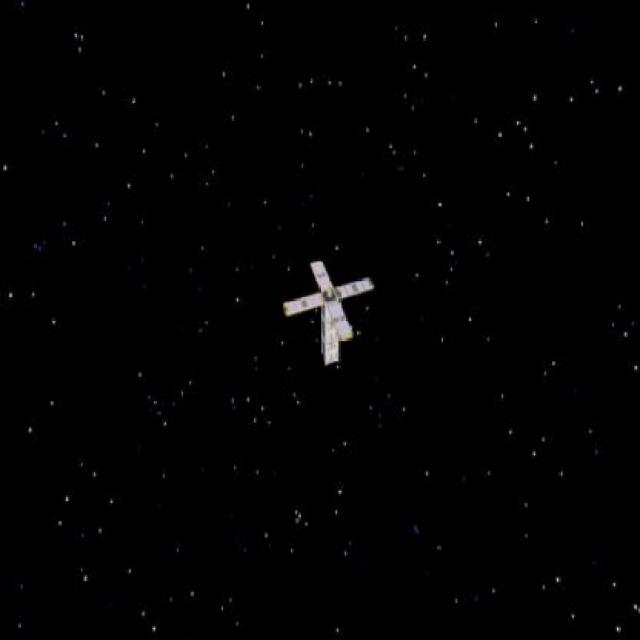satellite: (268, 250, 387, 377)
